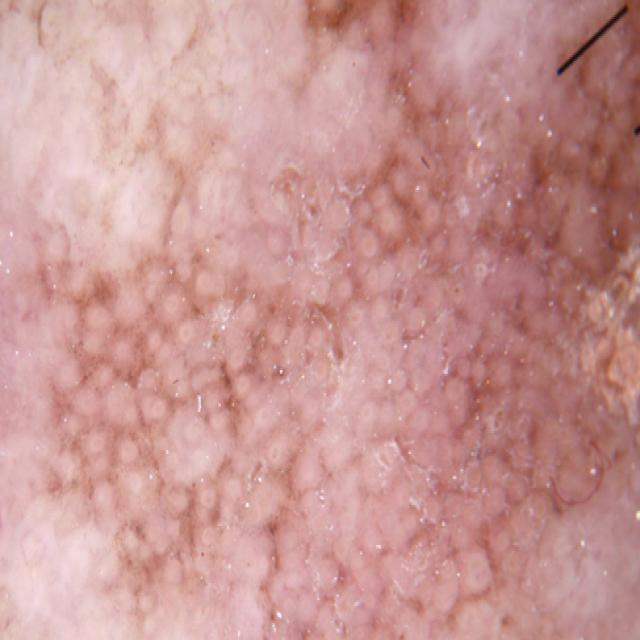Melanoma: (16, 171, 573, 640)
